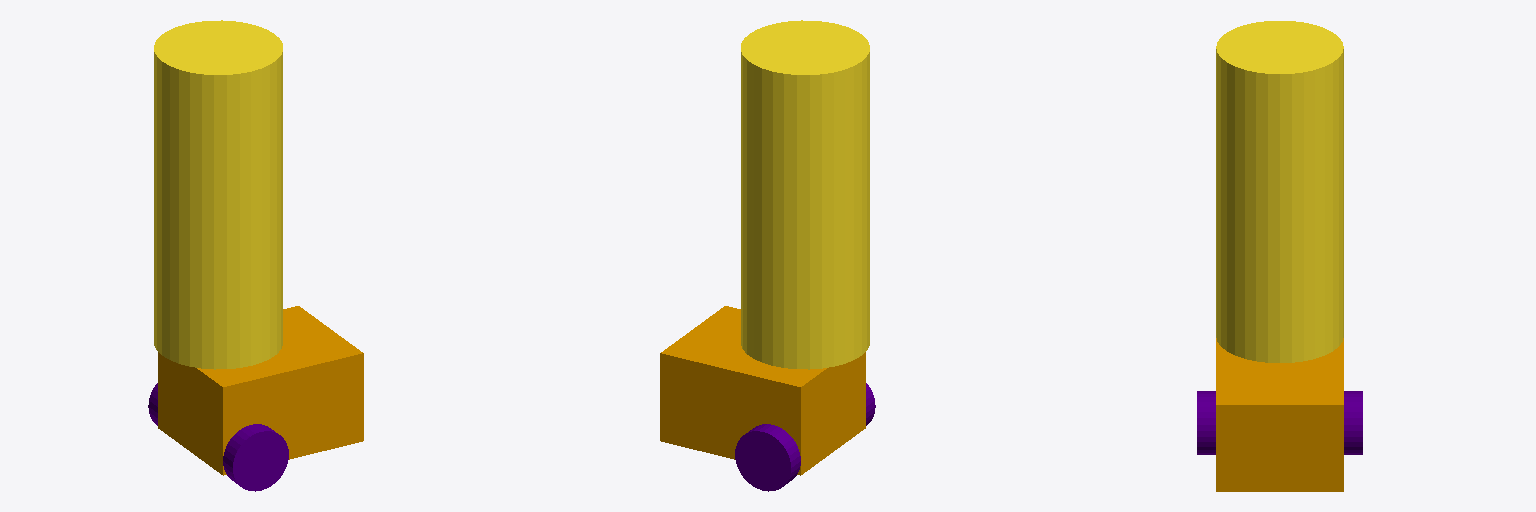
The robot description file, URDF, robot "diff_drive_example":
<?xml version="1.0"?>

<robot name="diff_drive_example">

    <!-- Materials -->
    <material name="uom_yellow">
        <color rgba="1.0 0.8 0.2 1"/>
    </material>

    <!-- LINKS -->
    <link name="base_link">
        <visual>
            <geometry>

                <!-- Box is defined as xyz lengths in m -->

                <box size="0.5 0.4 0.3"/>

            </geometry>

            <!-- Centre of box relative to link -->

            <!-- Leave as "0 0 0" for box centre at link origin -->

            <origin xyz="0.15 0 0.10" rpy="0 0 0"/>
        </visual>

        <collision>
            <!-- Same geometry and origin as visuals -->
            <geometry>

                <box size="0.5 0.4 0.3"/>

            </geometry>

            <origin xyz="0.15 0 0.10" rpy="0 0 0"/>

        </collision>

        <inertial>

            <mass value="12"/>

            <inertia ixx="0.25" ixy="0.0" ixz="0.0" iyy="0.34" iyz="0.0" izz="0.41"/>

            <origin xyz="0.15 0 0.10" rpy="0 0 0"/>

        </inertial>
    </link>

    <link name="wheel_left">
        <visual>
            <geometry>
                <cylinder length="0.06" radius="0.1" />
            </geometry>
            
            <material name="uom_purple">
            <!-- Define a colour for the link -->
                <color rgba="0.4 0 0.6 1"/>
            </material>
            <origin xyz="0 0 0.03" rpy="0 0 0"/>
        </visual>
    </link>

    <link name="wheel_right">
        <visual>
            <geometry>
                <cylinder length="0.06" radius="0.1" />
            </geometry>

            <material name="uom_purple">
                <!-- Define a colour for the link -->
                <color rgba="0.4 0 0.6 1"/>
            </material>
            <origin xyz="0 0 -0.03" rpy="0 0 0"/>
        </visual>
    </link>

    <link name="castor_link">
        <visual>
            <geometry>
                <sphere radius="0.05"/>
            </geometry>

            <material name="red">
                <color rgba="1 0 0 1"/>
            </material>

            <origin xyz="0 0 0" rpy="0 0 0"/>
        </visual>

        <collision>
            <geometry>
                <sphere radius="0.05"/>
            </geometry>

            <origin xyz="0 0 0" rpy="0 0 0"/>
        </collision>
    </link>

    <link name="manipulator_1_link">
        <visual>
            <geometry>
                <cylinder length="0.5" radius="0.2"/>
            </geometry>
        
            <material name="manchester_yellow">
                <color rgba="1 0.9 0.2 1"/>
            </material>

            <origin xyz="0 0 0.25" rpy="0 0 0"/>

        </visual>
    </link>

    <link name="manipulator_2_link">
        <visual>
            <geometry>
                <cylinder length="0.5" radius="0.2"/>
            </geometry>
        
            <material name="manchester_yellow">
                <color rgba="1 0.9 0.2 1"/>
            </material>

            <origin xyz="0 0 0.5" rpy="0 0 0"/>

        </visual>
    </link>


    <!-- JOINTS -->
    <joint name="base_manipulator_joint" type="revolute">
        <parent link="base_link"/>
        <child link="manipulator_1_link"/>
        <origin xyz="0 0 0.3" rpy="0 0 0"/>

        <limit lower="-0.3927" upper="0.3927" effort="30" velocity="1.0"/>

        <axis xyz="0 0 1"/>
    </joint>

    <joint name="manipulator_manipulator_joint" type="revolute">
        <parent link="manipulator_1_link"/>
        <child link="manipulator_2_link"/>
        <origin xyz="0 0 0.25" rpy="0 0 0"/>

        <limit lower="-0.3927" upper="0.3927" effort="30" velocity="1.0"/>

        <axis xyz="0 1 0"/>
    </joint>

    <joint name="base_wheel_left_joint" type="continuous">
        <parent link="base_link"/>
        <child link="wheel_left"/>
        <origin xyz="0 0.2 0" rpy="-1.5707 0 0"/>
        <axis xyz="0 0 1"/>
    </joint>

    <joint name="base_wheel_right_joint" type="continuous">
        <parent link="base_link"/>
        <child link="wheel_right"/>
        <origin xyz="0 -0.2 0" rpy="-1.5707 0 0"/>
        <axis xyz="0 0 1"/>
    </joint>

    <joint name="castor_wheel_joint" type="fixed">
        <parent link="base_link"/>
        <child link="castor_link"/>
        <origin xyz="0.2 0 -0.05" rpy="0 0 0"/>
        <axis xyz="0 0 0"/>
    </joint>

</robot>

--- Render facts (derived) ---
Views: 3 orthographic renders of the robot side by side, from view 1: azimuth 30°, elevation 25°; view 2: azimuth 150°, elevation 25°; view 3: azimuth 270°, elevation 25°.
Robot: diff_drive_example — 6 links, 5 joints (2 revolute, 2 continuous, 1 fixed); root link base_link; default pose: all joints at 0.
Links seen in each view (by area): view 1: manipulator_2_link, base_link, manipulator_1_link, wheel_right; view 2: manipulator_2_link, base_link, manipulator_1_link, wheel_left; view 3: manipulator_2_link, manipulator_1_link, base_link, wheel_left, wheel_right.
Boxes of the visible links, x1=… form: manipulator_2_link: x1=154, y1=20, x2=282, y2=221; base_link: x1=158, y1=306, x2=363, y2=475; manipulator_1_link: x1=154, y1=199, x2=282, y2=369; wheel_right: x1=223, y1=424, x2=288, y2=491; manipulator_2_link: x1=741, y1=20, x2=869, y2=221; base_link: x1=660, y1=306, x2=865, y2=475; manipulator_1_link: x1=741, y1=199, x2=869, y2=369; wheel_left: x1=735, y1=424, x2=800, y2=491; manipulator_2_link: x1=1216, y1=21, x2=1343, y2=218; manipulator_1_link: x1=1216, y1=193, x2=1343, y2=362; base_link: x1=1216, y1=338, x2=1343, y2=491; wheel_left: x1=1344, y1=391, x2=1362, y2=454; wheel_right: x1=1197, y1=391, x2=1215, y2=454.
Bounding box of the posed robot: 0.6 × 0.52 × 1.4 m (x, y, z).
Geometry: primitives only (box / cylinder / sphere), no mesh files.